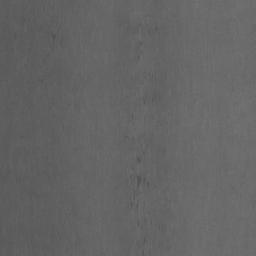Silk spot: (130, 175, 149, 188), (127, 190, 139, 210), (47, 32, 57, 51)
